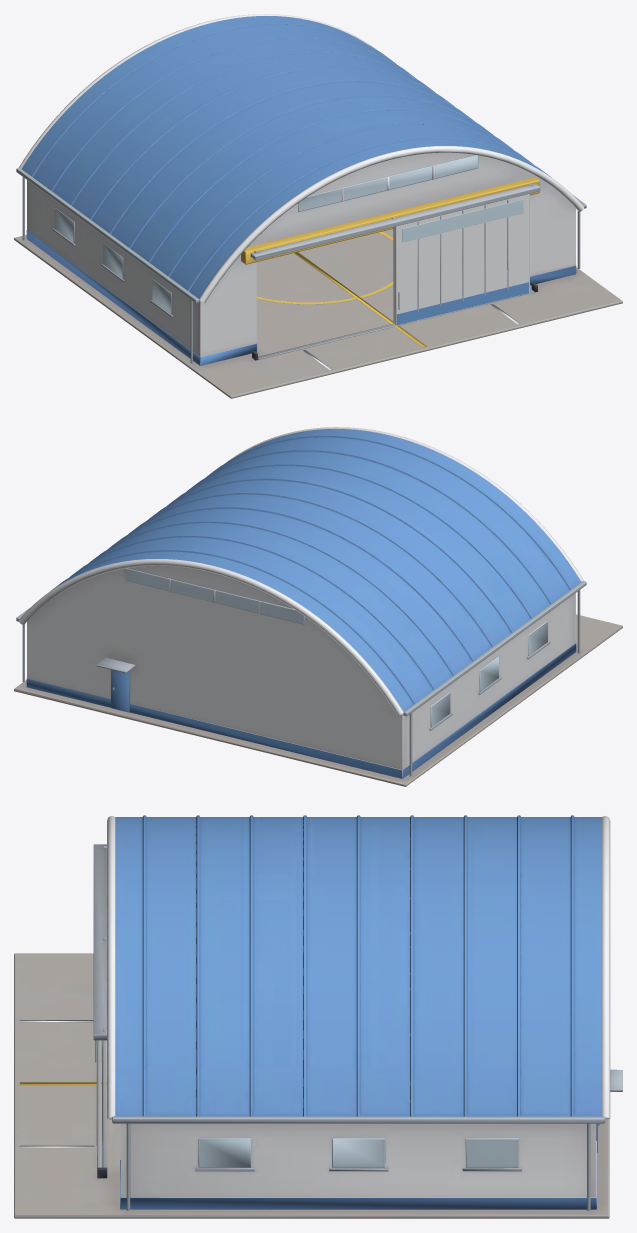
Rendered from bldg_hangar.glb.
3 views of the same model, one above another, from view 1: azimuth 30°, elevation 25°; view 2: azimuth 150°, elevation 25°; view 3: azimuth 270°, elevation 25° (orthographic). The views are drawn at different scales.
Parts seen in each view (by area): view 1: hangar_body, hangar_door_inner; view 2: hangar_body; view 3: hangar_body, hangar_door_inner.
Part boxes in pixels (<box>): hangar_body: <box>14,14,622,398</box>; hangar_door_inner: <box>393,194,529,325</box>; hangar_body: <box>14,427,622,786</box>; hangar_body: <box>14,815,622,1218</box>; hangar_door_inner: <box>95,1040,106,1170</box>.
Bounding box in the file's own units: 20.9 × 8.81 × 20.5.
6 materials, 1 textured.
